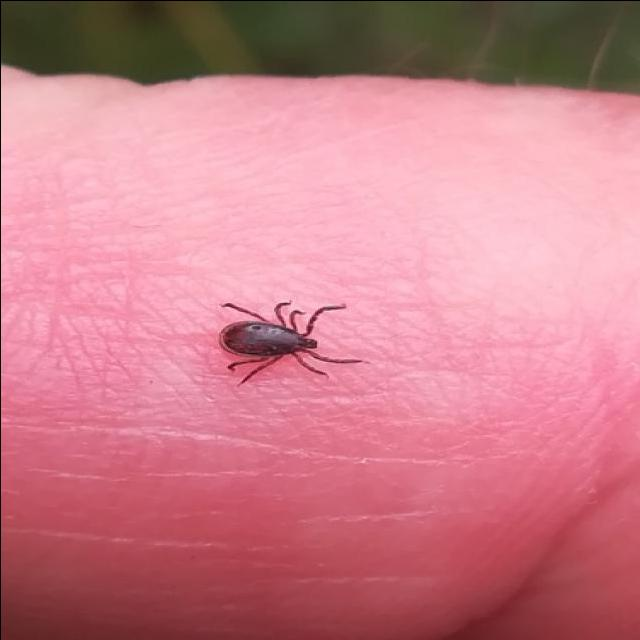Ixodes Ricinus-M: (217, 298, 364, 384)
